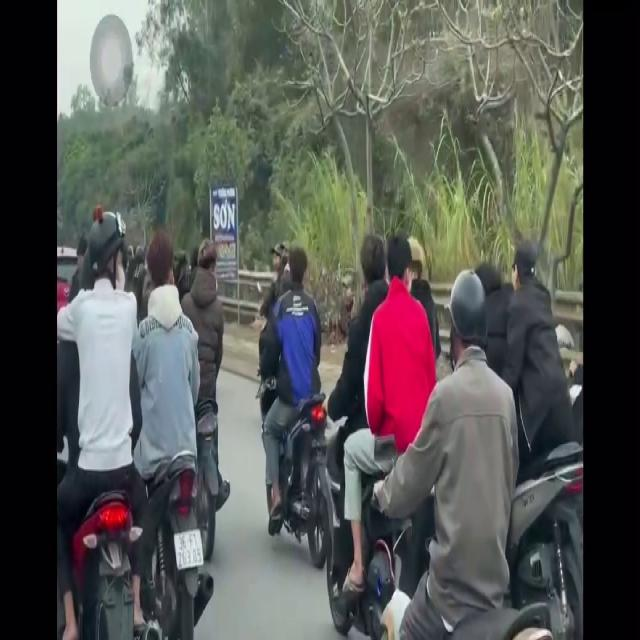helmet: (87, 198, 127, 303), (450, 268, 486, 374)
no_helmet: (146, 231, 174, 304), (360, 233, 387, 303), (196, 238, 217, 301)
